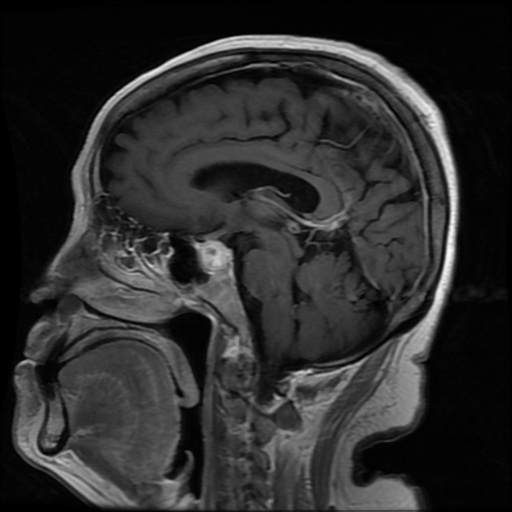pituitary: (195, 242, 234, 273)
